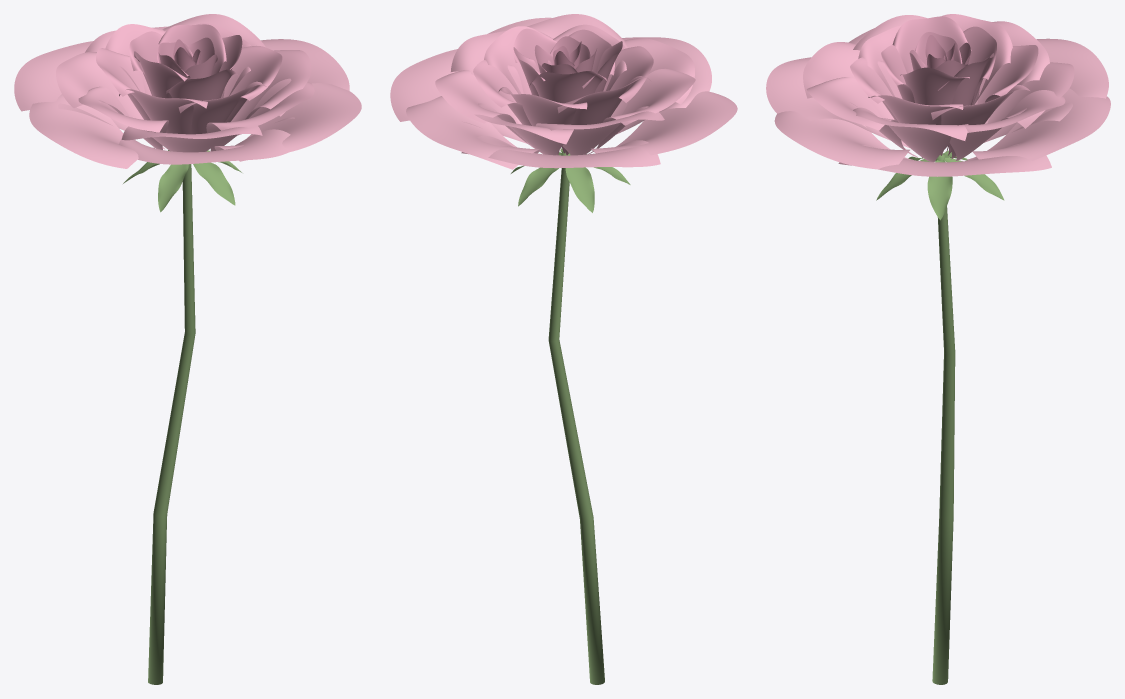
File: rose_bloom_prototype.glb
3 views of the same model, side by side, from view 1: azimuth 30°, elevation 25°; view 2: azimuth 150°, elevation 25°; view 3: azimuth 270°, elevation 25° (orthographic). The views are drawn at different scales.
Parts seen in each view (by area): view 1: stem, petal_0_3, petal_0_5, petal_0_4, petal_0_2, petal_1_0, petal_2_1, petal_1_4, petal_1_3, petal_1_2, petal_0_0, petal_2_5 (+12 smaller); view 2: stem, petal_0_3, petal_0_1, petal_0_2, petal_0_0, petal_1_1, petal_1_5, petal_1_0, petal_3_1, petal_2_2, petal_1_2, petal_2_5 (+13 smaller); view 3: stem, petal_0_5, petal_0_1, petal_0_2, petal_0_4, petal_0_0, petal_1_3, petal_1_4, petal_1_5, petal_1_2, petal_1_6, petal_3_2 (+14 smaller).
Boxes of the visible parts, x1,y1,x2,y2 form: stem: [148, 164, 195, 684]; petal_0_3: [29, 94, 154, 168]; petal_0_5: [214, 83, 361, 161]; petal_0_4: [119, 129, 290, 164]; petal_0_2: [14, 41, 127, 130]; petal_1_0: [56, 52, 165, 149]; petal_2_1: [223, 46, 282, 122]; petal_1_4: [230, 50, 311, 122]; petal_1_3: [206, 78, 314, 151]; petal_1_2: [121, 126, 262, 152]; petal_0_0: [237, 39, 349, 135]; petal_2_5: [119, 89, 207, 134]; stem: [548, 151, 604, 684]; petal_0_3: [591, 91, 737, 155]; petal_0_1: [406, 96, 540, 169]; petal_0_2: [461, 136, 660, 168]; petal_0_0: [390, 49, 527, 143]; petal_1_1: [588, 68, 695, 154]; petal_1_5: [435, 70, 534, 148]; petal_1_0: [534, 106, 664, 155]; petal_3_1: [529, 71, 606, 155]; petal_2_2: [473, 60, 531, 125]; petal_1_2: [611, 38, 694, 116]; petal_2_5: [603, 46, 653, 117]; stem: [932, 153, 955, 684]; petal_0_5: [774, 100, 912, 169]; petal_0_1: [966, 88, 1110, 160]; petal_0_2: [984, 38, 1108, 142]; petal_0_4: [766, 57, 909, 147]; petal_0_0: [838, 143, 1051, 176]; petal_1_3: [806, 77, 917, 157]; petal_1_4: [853, 107, 968, 161]; petal_1_5: [944, 90, 1065, 160]; petal_1_2: [803, 42, 894, 119]; petal_1_6: [987, 62, 1074, 139]; petal_3_2: [892, 16, 971, 73].
Size of the model in its own units: 0.1153 by 0.2316 by 0.1101.
